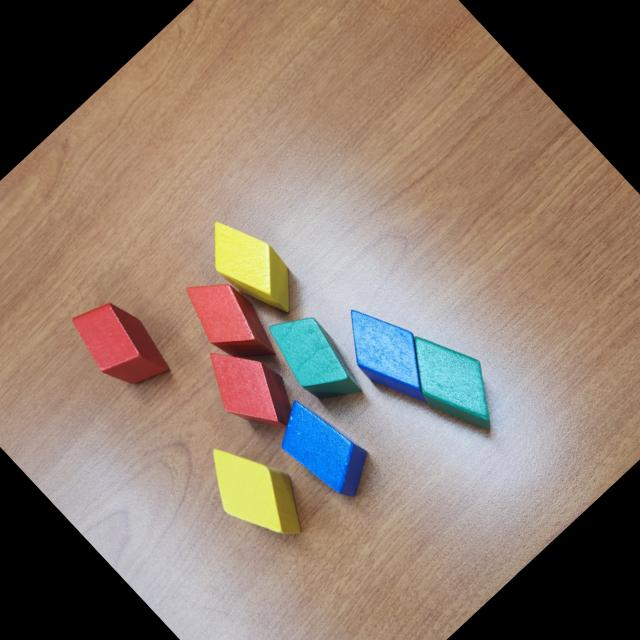blue: (326, 290, 454, 419), (264, 387, 383, 509)
green: (388, 315, 522, 452), (256, 298, 374, 419)
red: (192, 329, 310, 449), (62, 286, 179, 404), (173, 263, 289, 381)
yellow: (189, 424, 322, 560), (192, 206, 313, 330)
